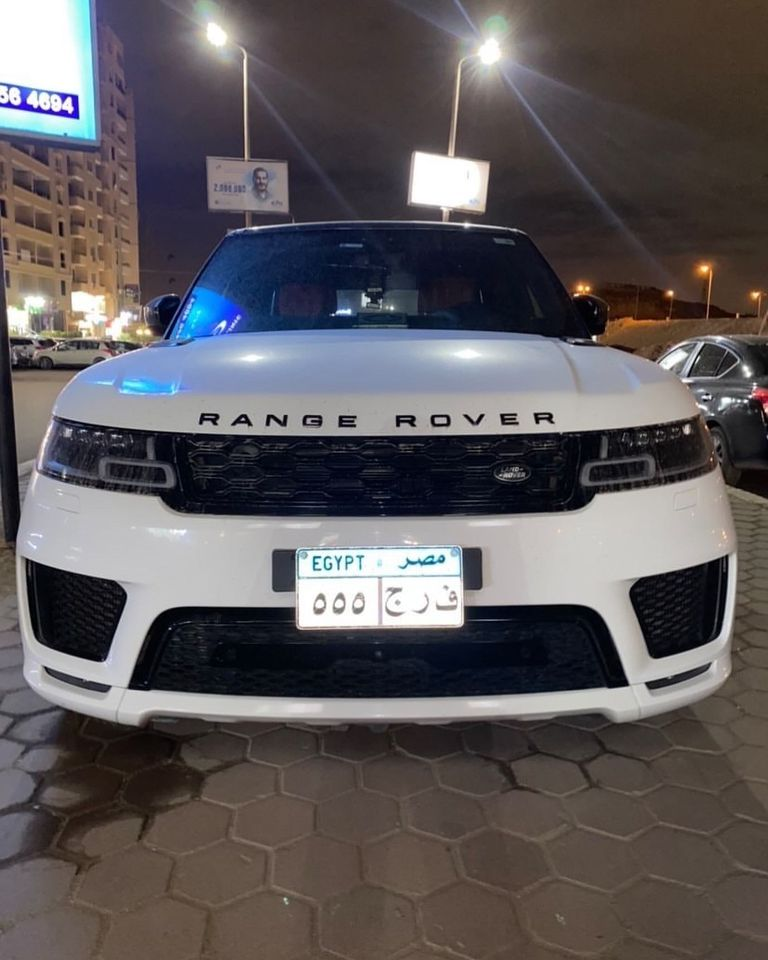carpl: (294, 562, 469, 627)
